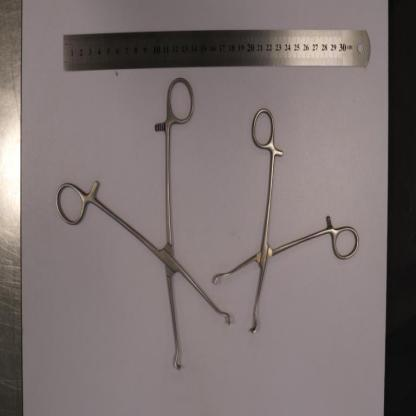8 Babcock Tissue Forceps: (56, 77, 231, 371)
Babcock Tissue Forceps: (214, 107, 358, 334)
